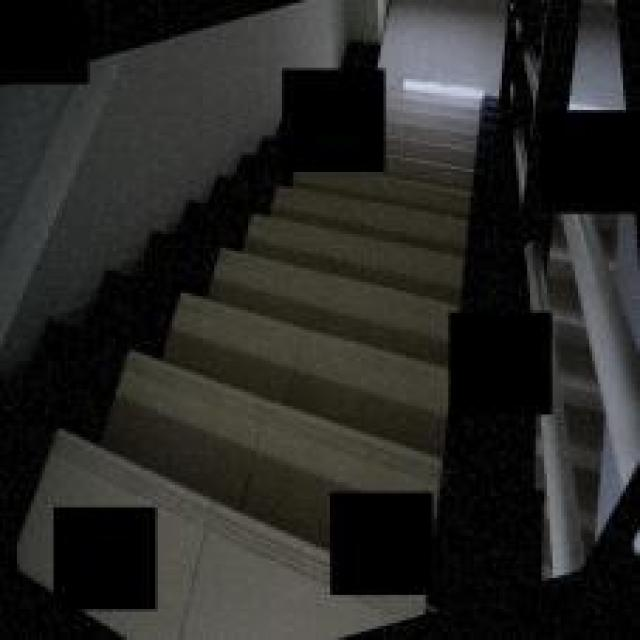downstair: (162, 173, 444, 489)
